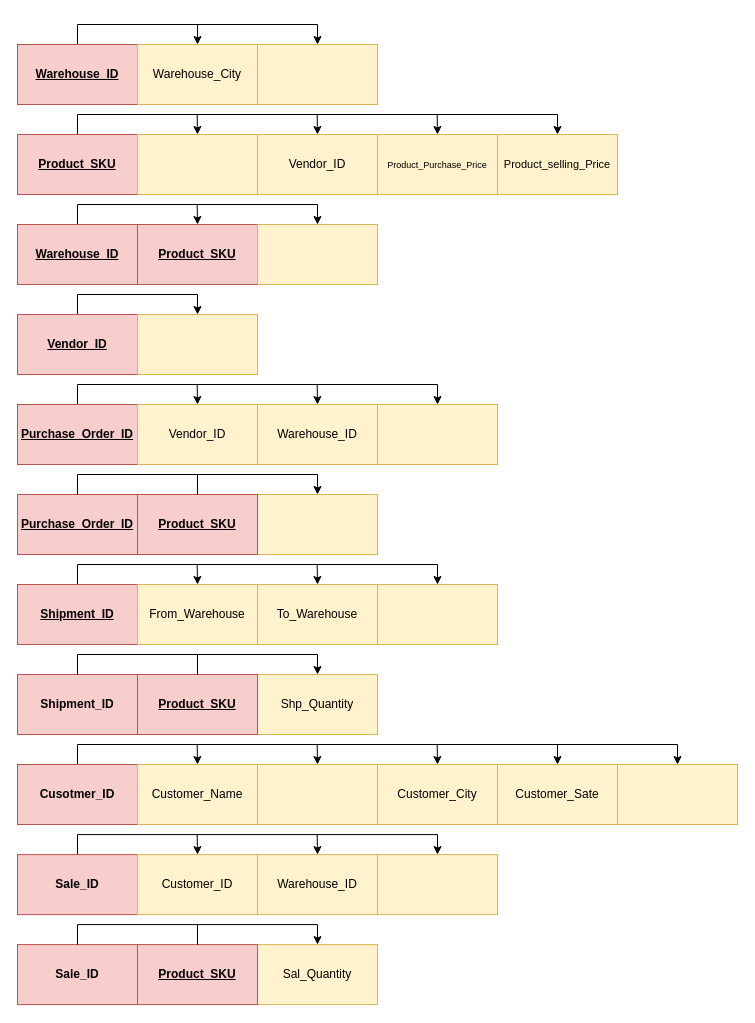
Some shapes in this 755 by 1023 pixel diagram are drawn without their labels. The box of each missing label's shape, as (x1, y1, x2, y2) in pixels:
Customer_Street: (256, 764, 378, 824)
Customer_Zip: (616, 764, 738, 824)
Inv_Quantity: (256, 224, 378, 284)
Product_Name: (136, 134, 258, 194)
Purchase_Date: (376, 404, 498, 464)
Purchase_Quantity: (256, 494, 378, 554)
Sale_Date: (376, 854, 498, 915)
Shipment_Date: (376, 584, 498, 644)
Vendor_Name: (136, 314, 258, 374)
Warehouse_State: (256, 44, 378, 104)
